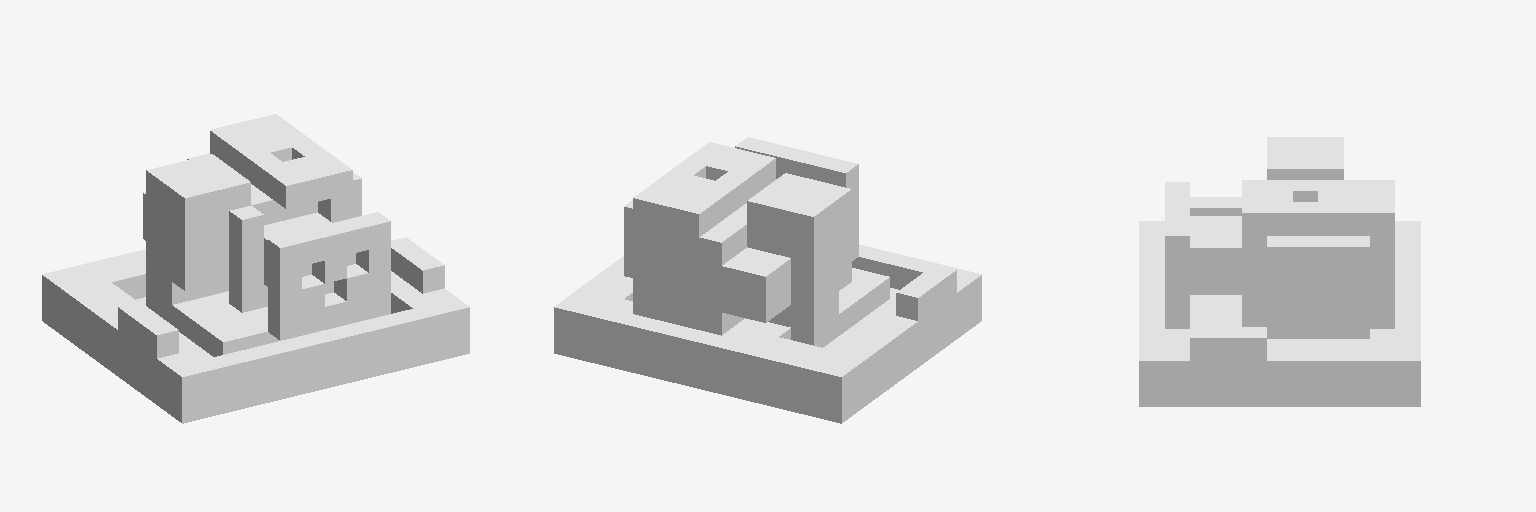
File: shop_turret5.obj
3 renders of one model, left to right at view 1: azimuth 30°, elevation 25°; view 2: azimuth 150°, elevation 25°; view 3: azimuth 270°, elevation 25°, orthographic.
Visible parts, largest first — view 1: object 1; view 2: object 1; view 3: object 1.
Boxes of the visible parts, box(x1,y1,x2,y2) form: object 1: box(42, 114, 469, 423); object 1: box(554, 137, 981, 423); object 1: box(1139, 137, 1420, 406).
Size of the model in its own units: 1.3 by 0.7 by 1.1.